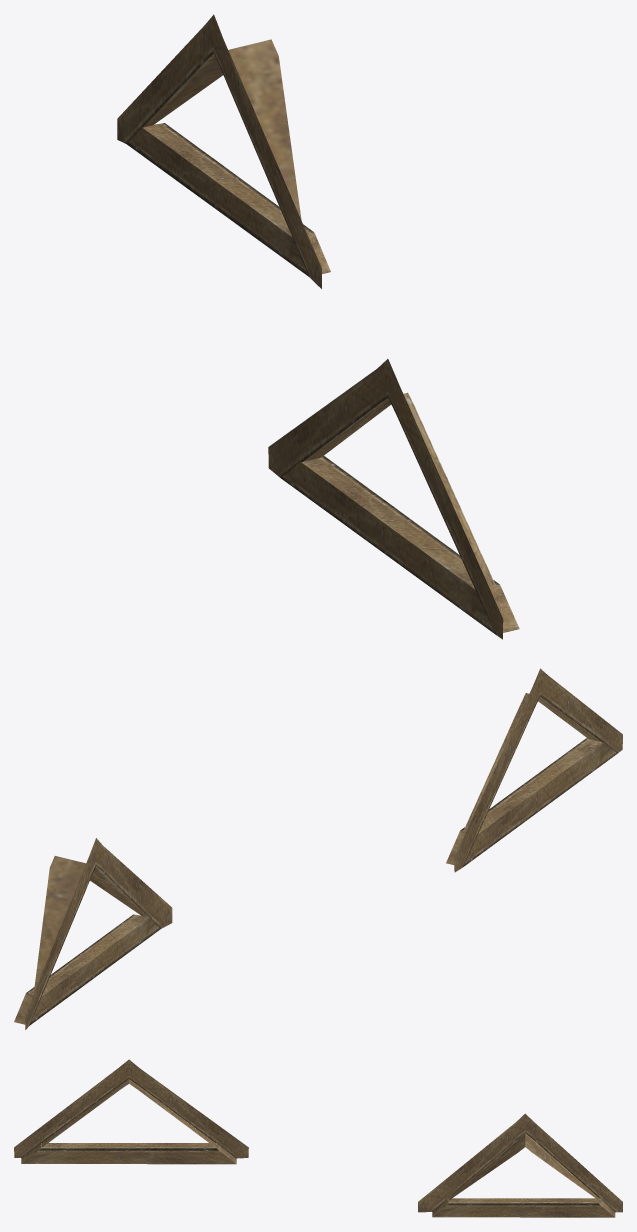
File: hele_house_b_gables.dae
3 renders of one model, top to bottom at view 1: azimuth 30°, elevation 25°; view 2: azimuth 150°, elevation 25°; view 3: azimuth 270°, elevation 25°, orthographic. The views are drawn at different scales.
Visible parts, largest first — view 1: gables; view 2: gables; view 3: gables.
Part boxes in pixels (left/top/right/bottom): gables: left=117, top=14, right=519, bottom=639; gables: left=14, top=668, right=622, bottom=1029; gables: left=14, top=1059, right=622, bottom=1217.
Bounding box in the file's own units: 3.77 × 2.55 × 14.21.
